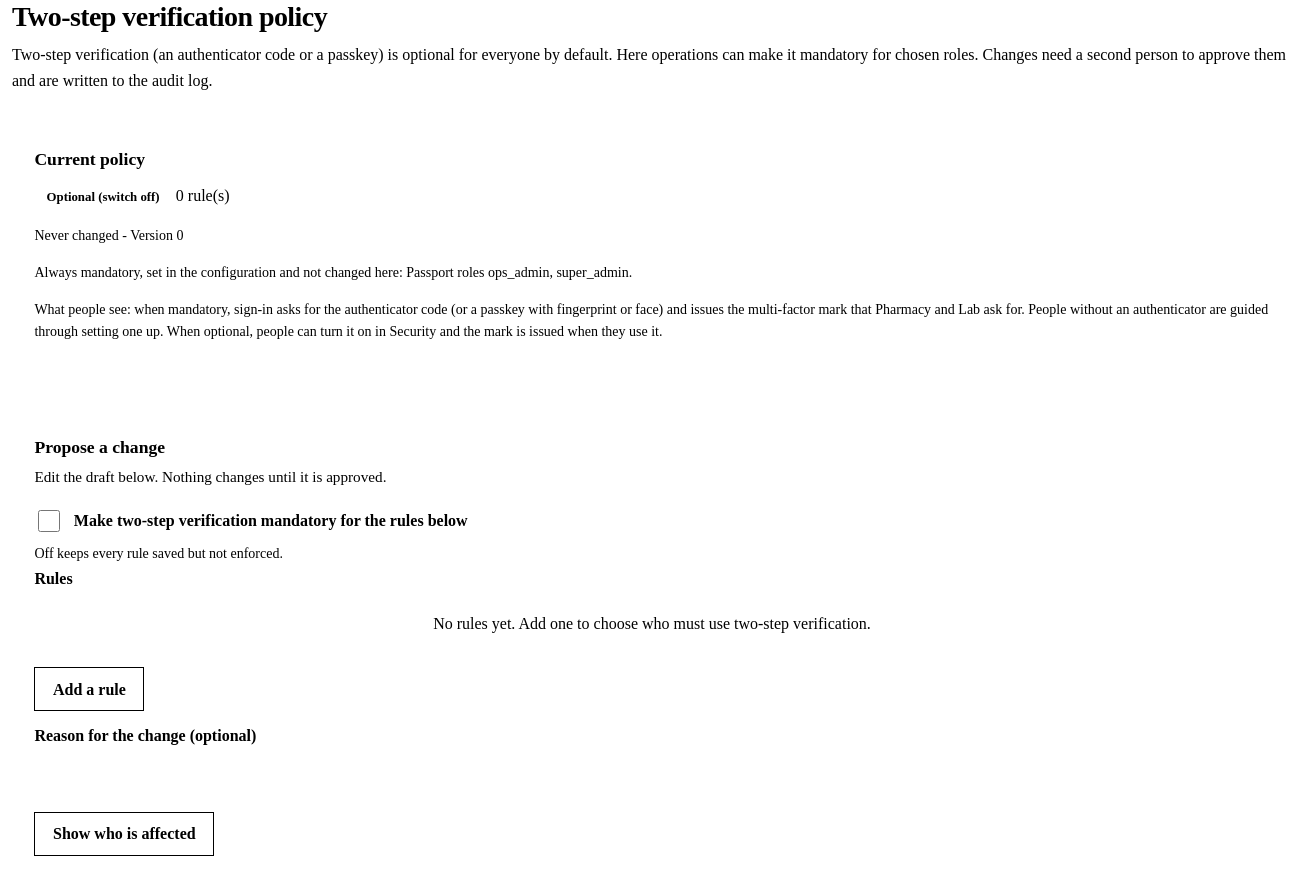
Ops MFA policy page › a rule for one organisation needs the organisation picked; the wildcard role excludes the others
Later steps or results of the test are not shown.
Check: the text "Optional (switch off)" is shown, box [47,190,160,204]
Click the button "Add a rule": (89, 689) [34,667,144,711]
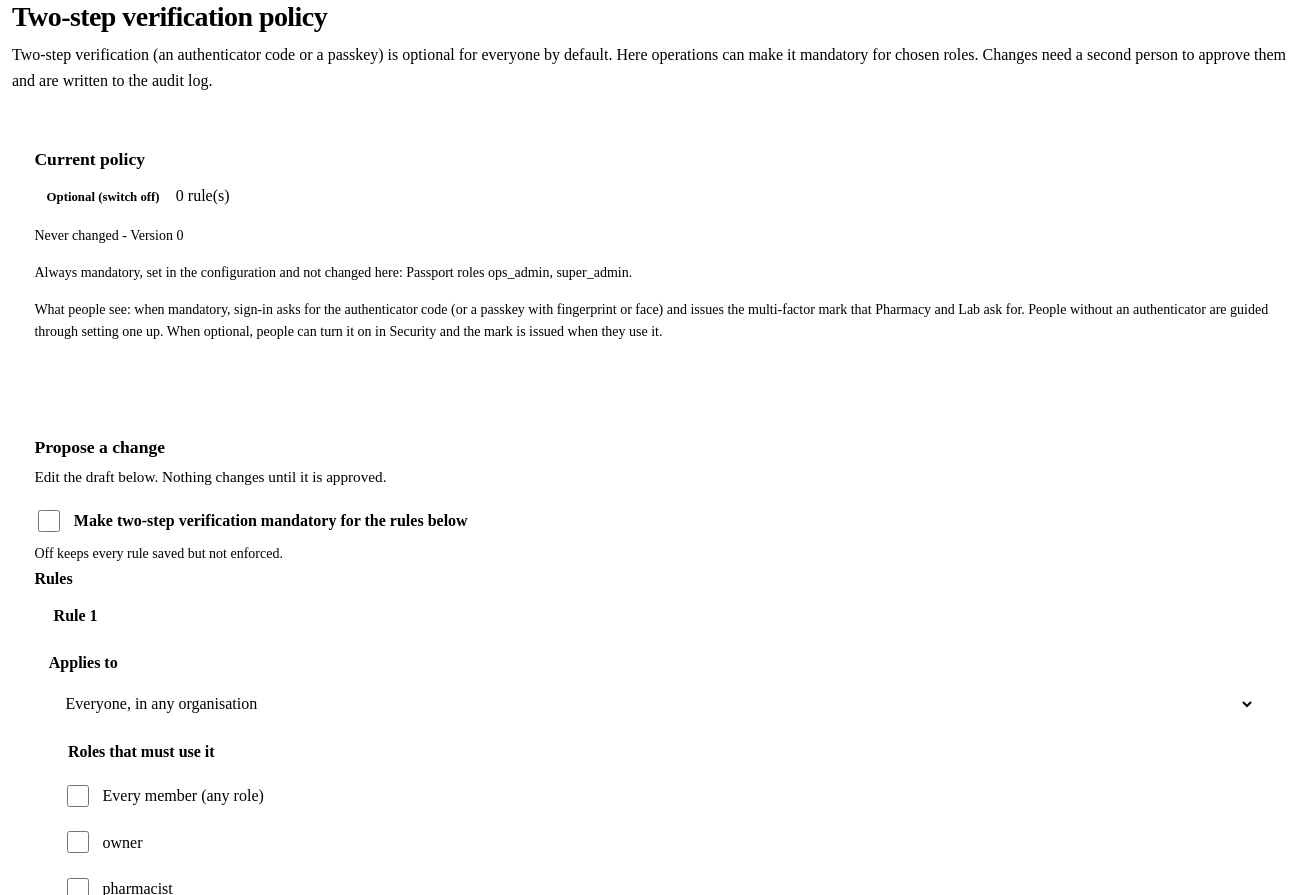
Select "One organisation" in the dropdown labelled "Applies to": (652, 704) [49,681,1255,727]
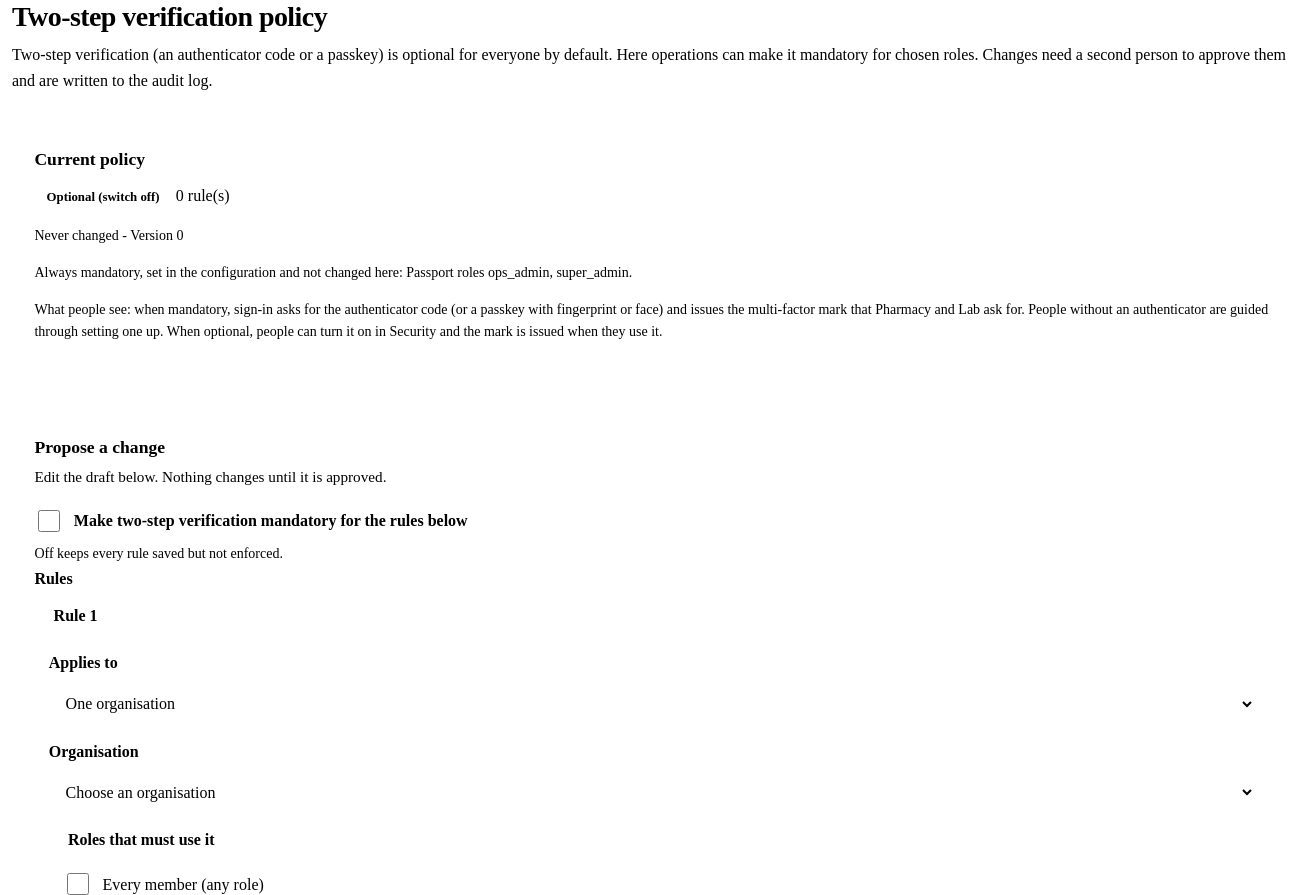
Click the checkbox labelled "Every member (any role)": (78, 884) [67,873,89,894]
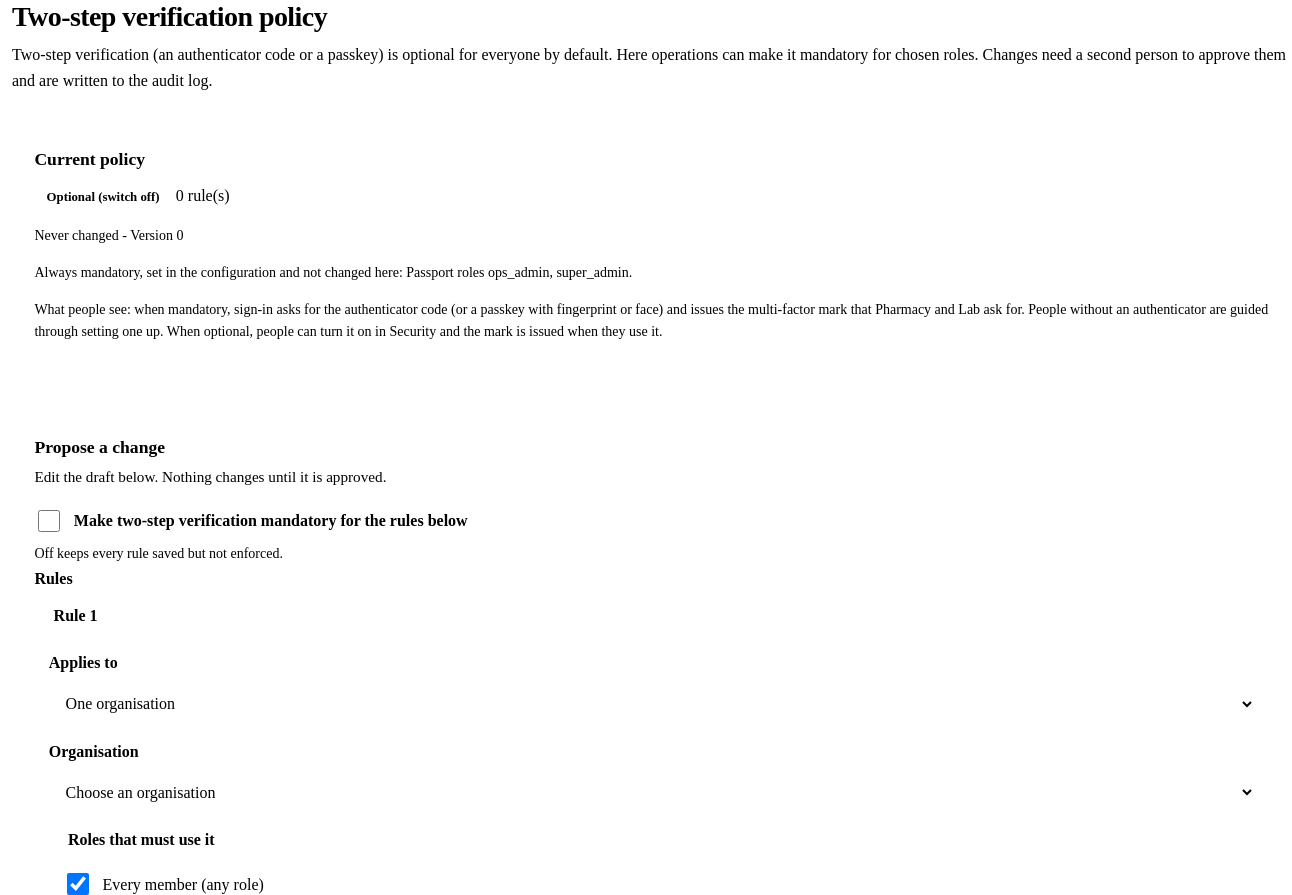
Select "Nile Pharmacy (Pharmacy)" in the dropdown labelled "Organisation": (652, 792) [49,769,1255,815]
(page scrolled)
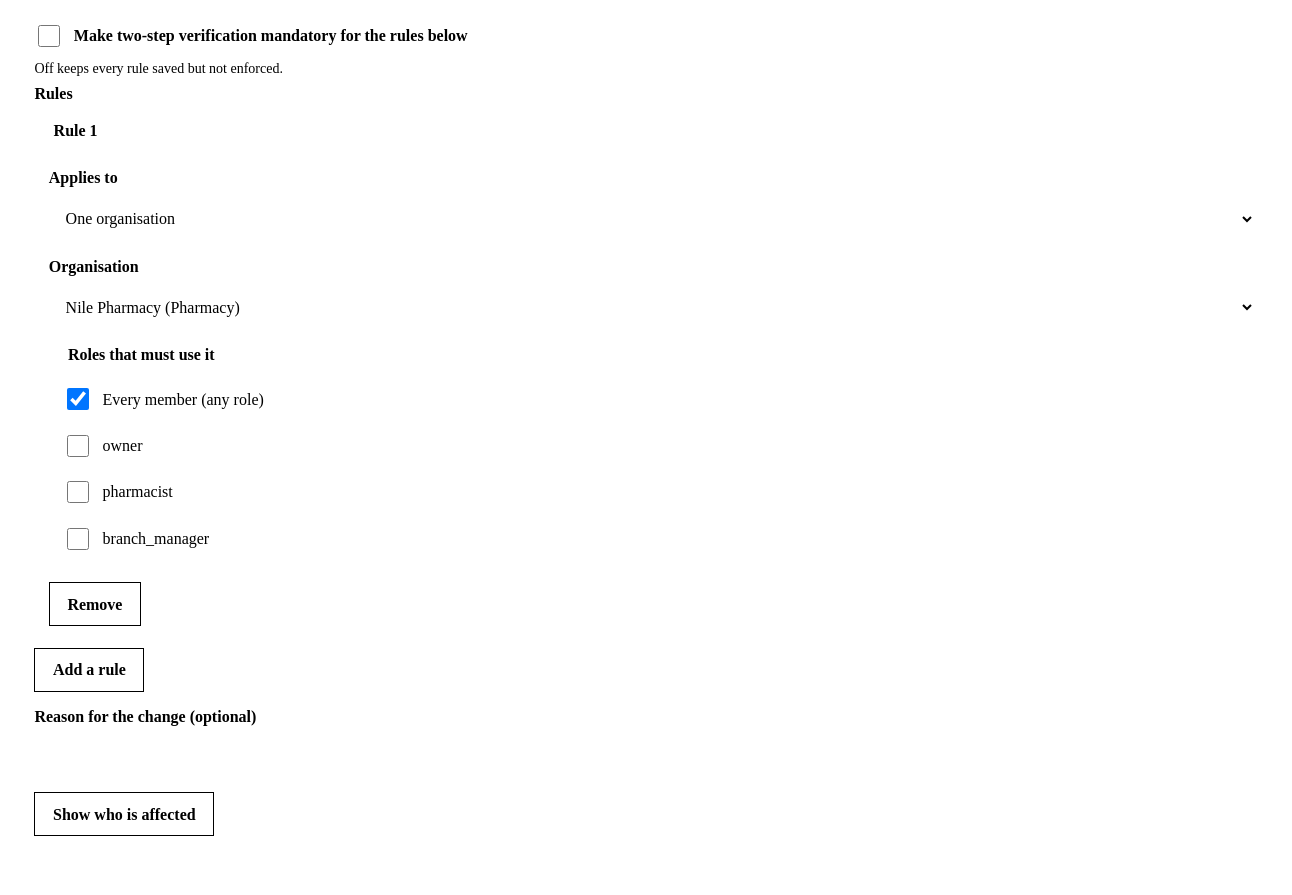
Click the checkbox labelled "owner": (78, 446) [67,435,89,457]
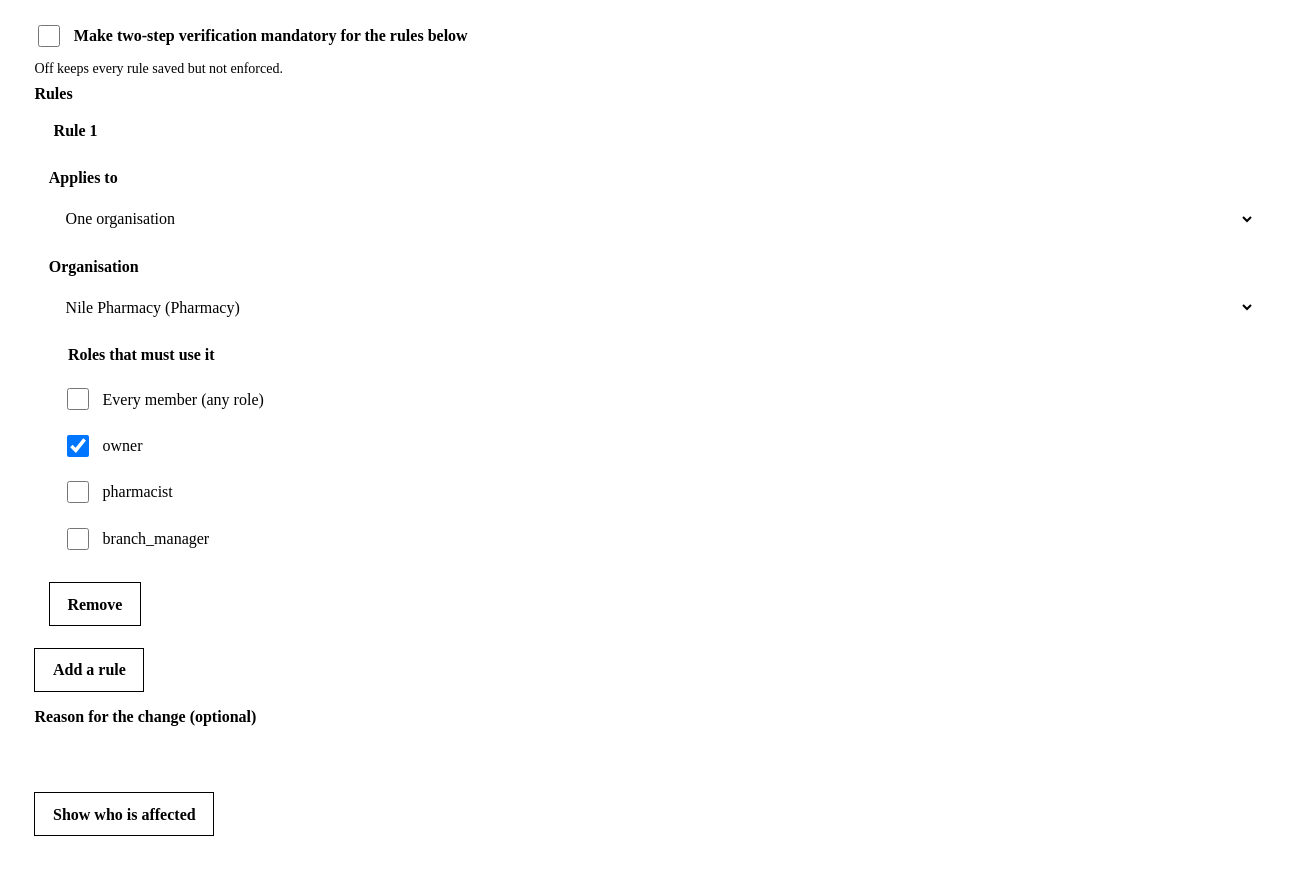
Check: the checkbox labelled "Every member (any role)" is not checked, box [67,388,89,410]
